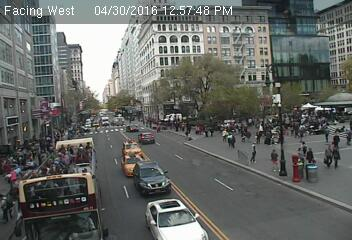neg: (163, 112, 172, 125), (304, 101, 312, 112), (145, 110, 153, 120), (293, 105, 300, 115)
pos: (1, 193, 21, 219), (265, 146, 284, 172), (329, 144, 347, 168), (320, 143, 337, 166), (244, 141, 260, 163), (304, 145, 316, 161), (321, 124, 333, 140), (297, 123, 307, 137), (220, 129, 229, 142), (300, 139, 309, 151), (295, 149, 304, 161), (333, 130, 342, 142), (344, 130, 351, 144), (231, 134, 239, 145)
